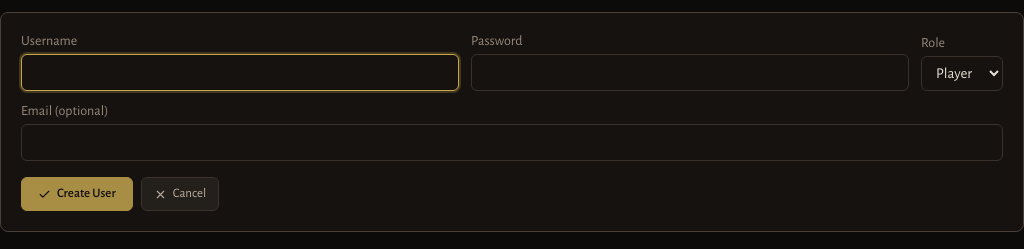
Test: AddUserForm › shows loading state while submitting
In the field labelled "Username": (240, 72) [21,54,459,91], type "alice"
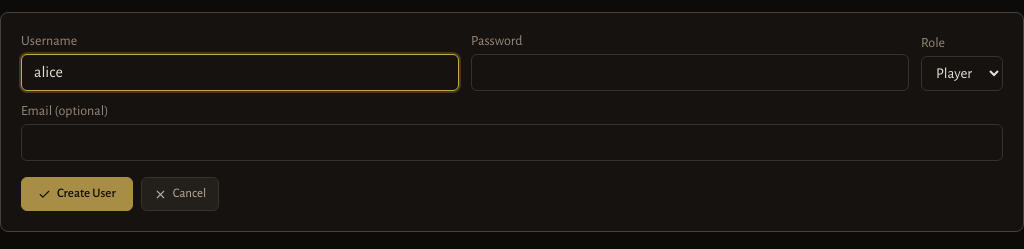
In the password field labelled "Password": (690, 72) [471,54,909,91], type "validpassword"
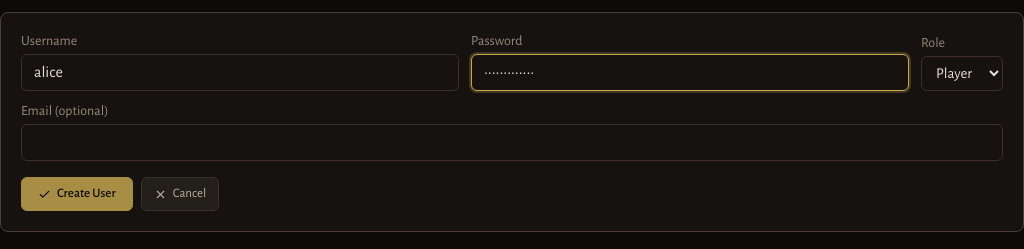
Click the button "Create User": (77, 194) [21,177,133,211]
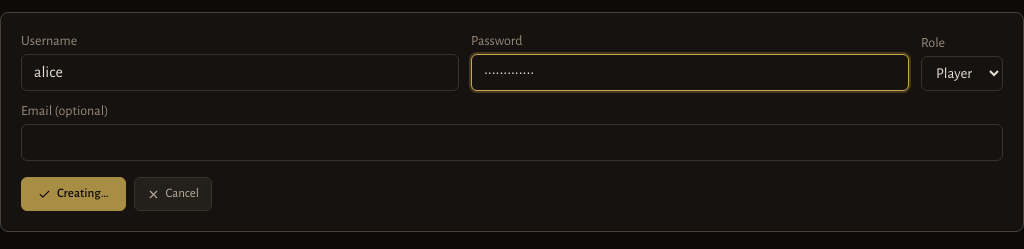
Now the button "Creating…" is shown, box [21,177,126,211]
